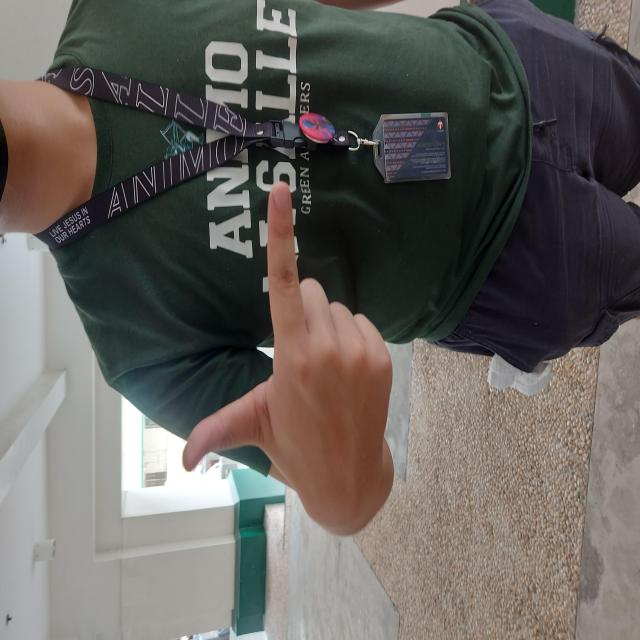G: (166, 178, 460, 394)
